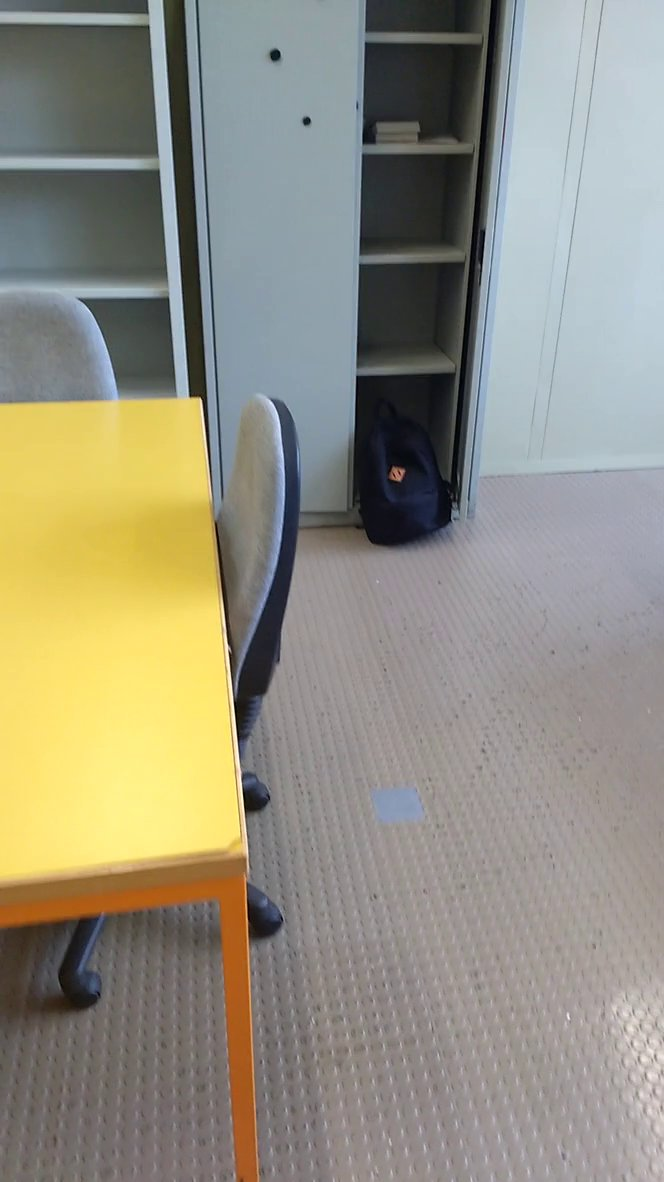bag: (343, 387, 458, 550)
chair: (182, 376, 313, 834), (2, 276, 129, 447)
